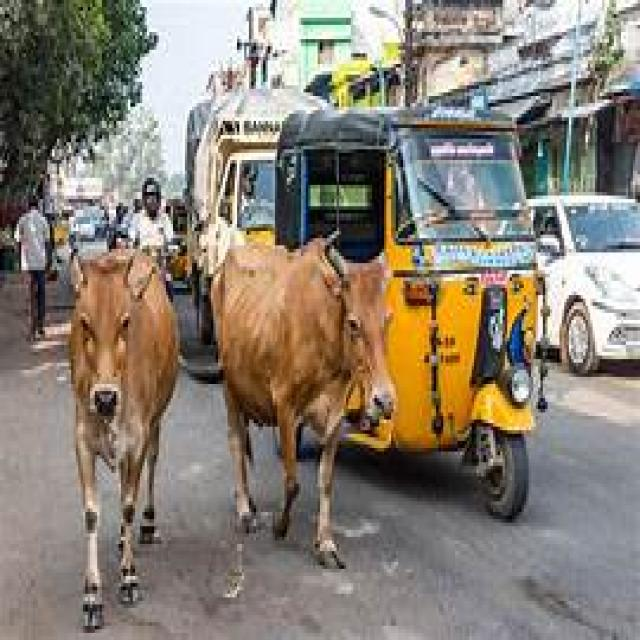Auto: (276, 109, 537, 518)
Car: (531, 199, 640, 374)
